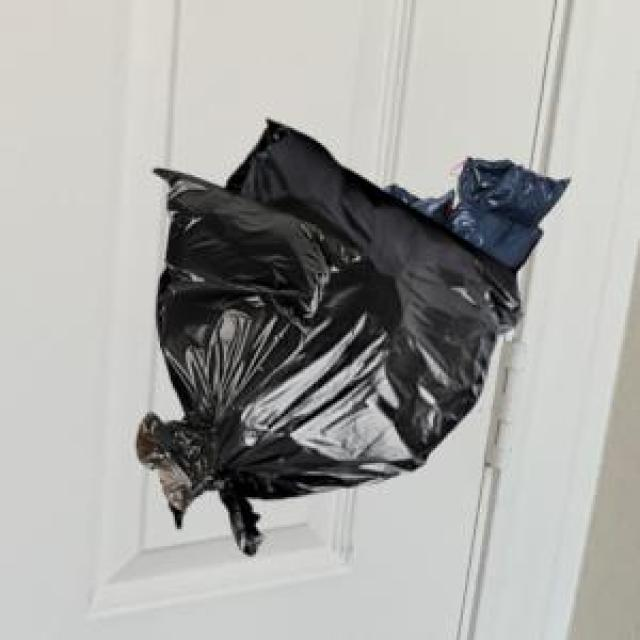Trashbag: (142, 110, 470, 502), (457, 148, 574, 220)
